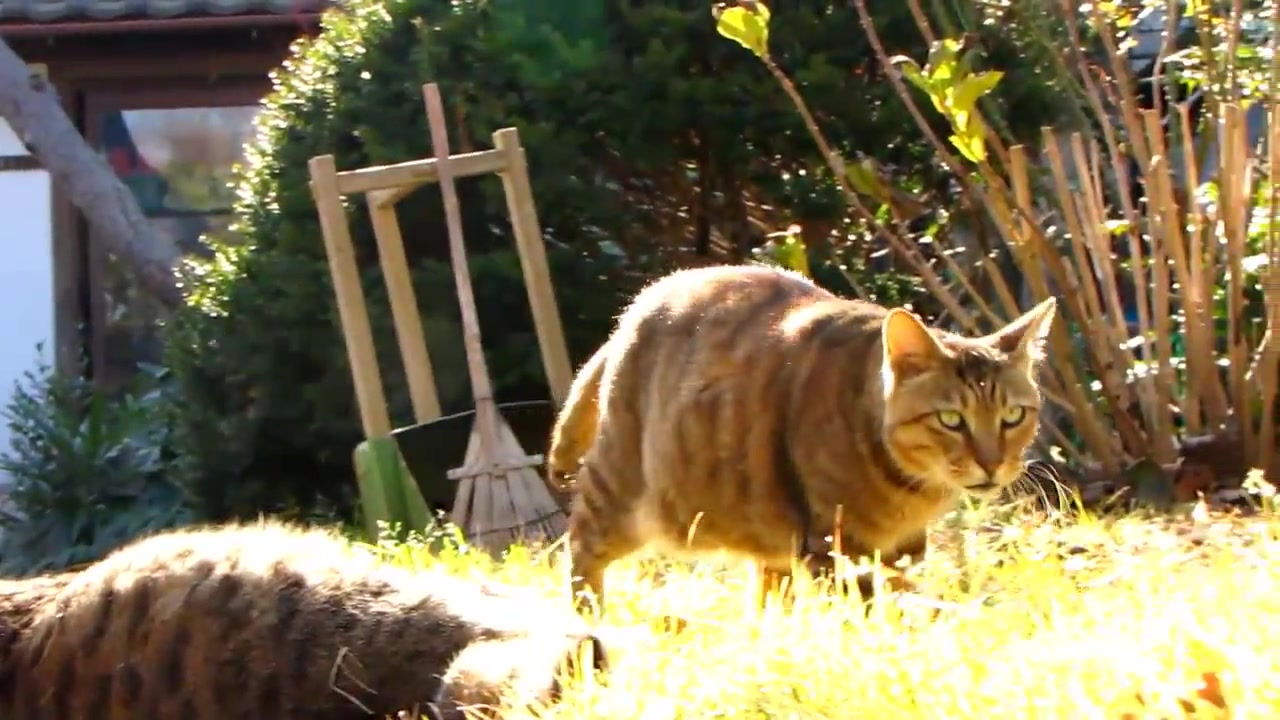cat: (549, 254, 1063, 624), (1, 531, 608, 720)
